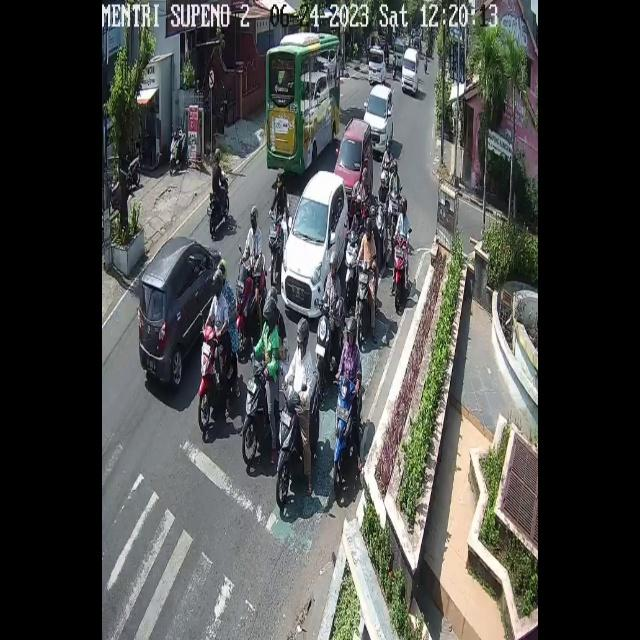bus: (240, 351, 294, 464), (286, 356, 328, 494), (198, 323, 238, 432), (330, 374, 363, 500), (236, 253, 266, 324), (316, 298, 339, 380), (208, 171, 231, 235), (357, 259, 374, 338), (266, 210, 281, 286), (343, 227, 359, 290), (393, 237, 406, 310), (379, 158, 392, 199), (388, 188, 399, 225), (377, 206, 387, 237)
car: (264, 33, 342, 167), (402, 46, 419, 96)
motorcycle: (139, 236, 222, 393), (281, 169, 349, 319), (334, 116, 374, 196), (365, 84, 393, 152), (368, 46, 386, 84)
